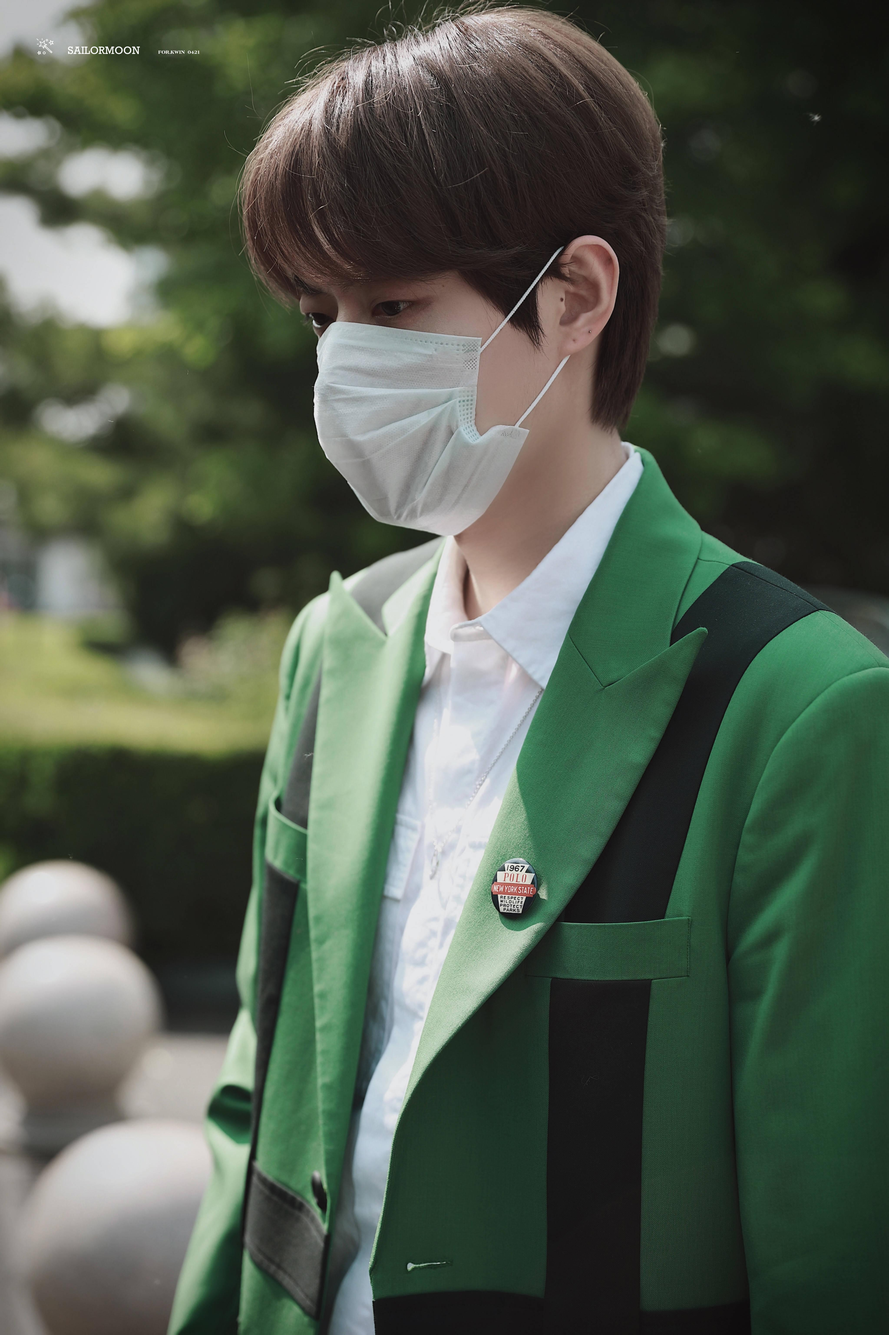OK: (297, 256, 531, 537)
